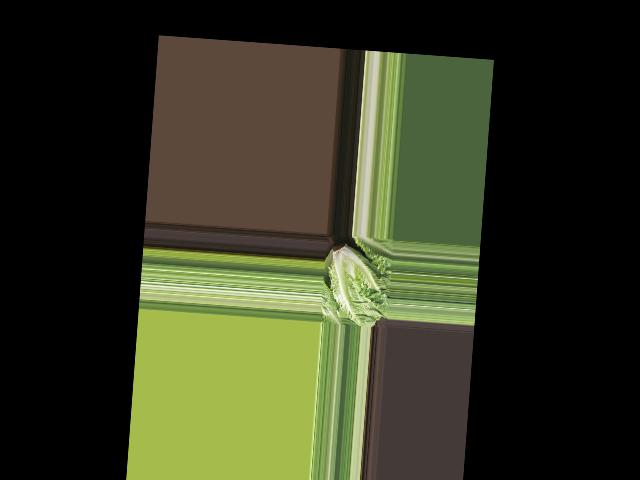lettuce: (319, 238, 388, 326)
